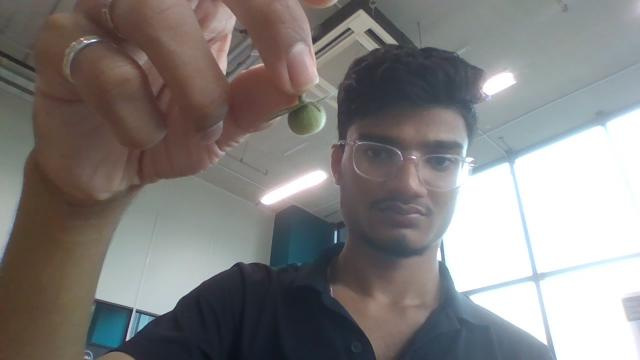Fruit Maturation: (288, 99, 326, 137)
